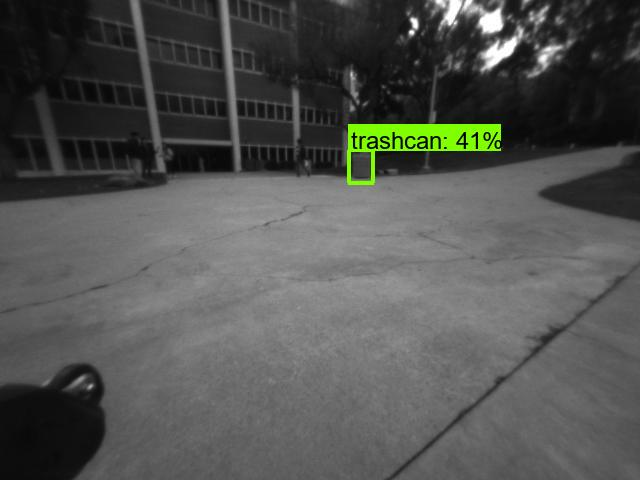trashcan: (351, 152, 370, 181)
